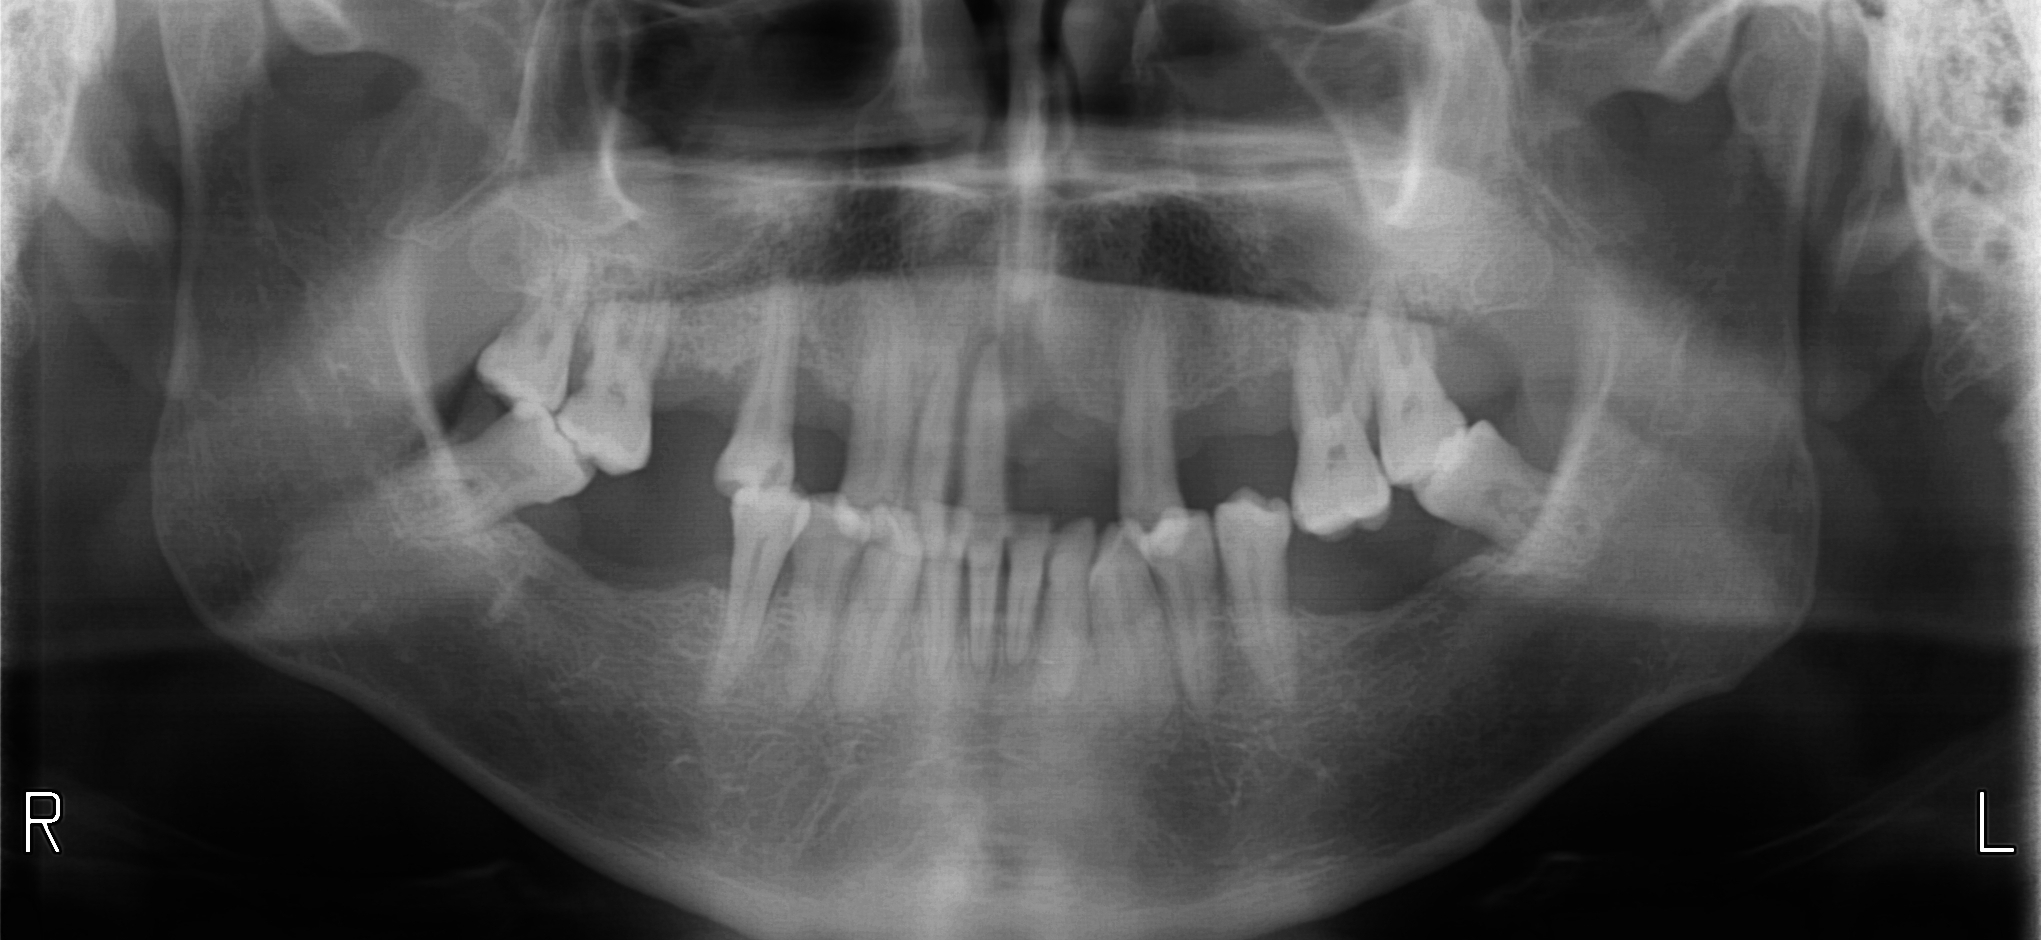cavity: (765, 457, 784, 480)
